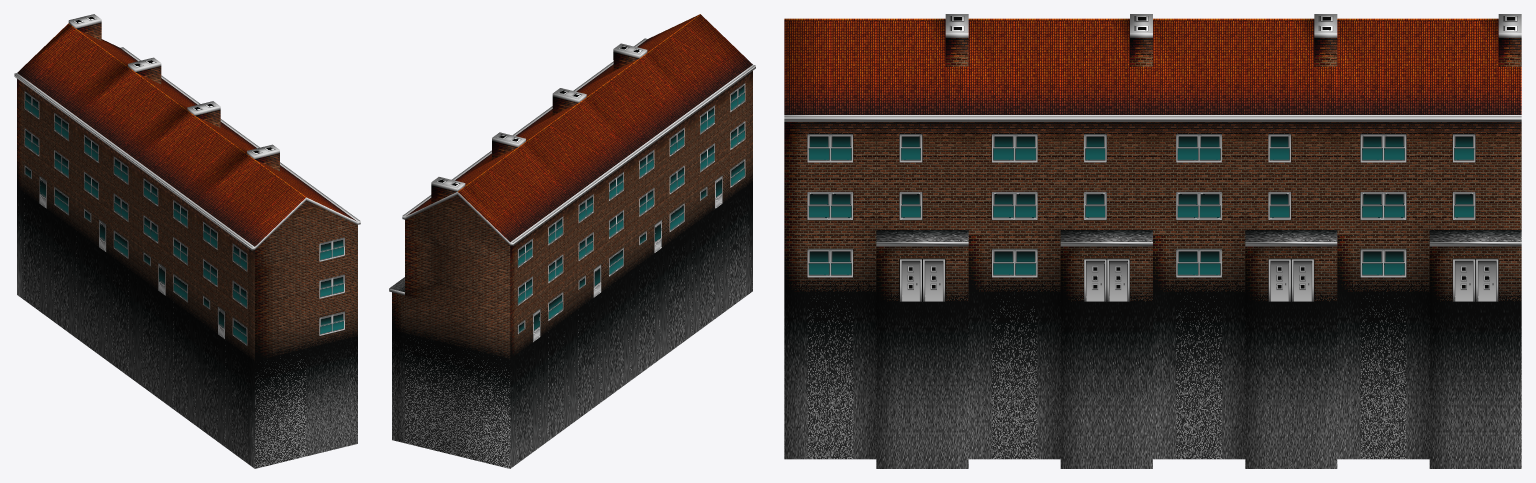
Rendered from maisonet_mod2_3a.fbx.
The picture shows the model from 3 angles, left to right: view 1: azimuth 30°, elevation 25°; view 2: azimuth 150°, elevation 25°; view 3: azimuth 270°, elevation 25°; orthographic projection. The views are drawn at different scales.
Visible parts, largest first — view 1: maisonet_mod2_3a; view 2: maisonet_mod2_3a; view 3: maisonet_mod2_3a.
Boxes of the visible parts, <box> form: maisonet_mod2_3a: <box>14,14,360,468</box>; maisonet_mod2_3a: <box>389,14,755,468</box>; maisonet_mod2_3a: <box>784,14,1521,468</box>.
Bounding box in the file's own units: 1062 × 2188 × 3600.
